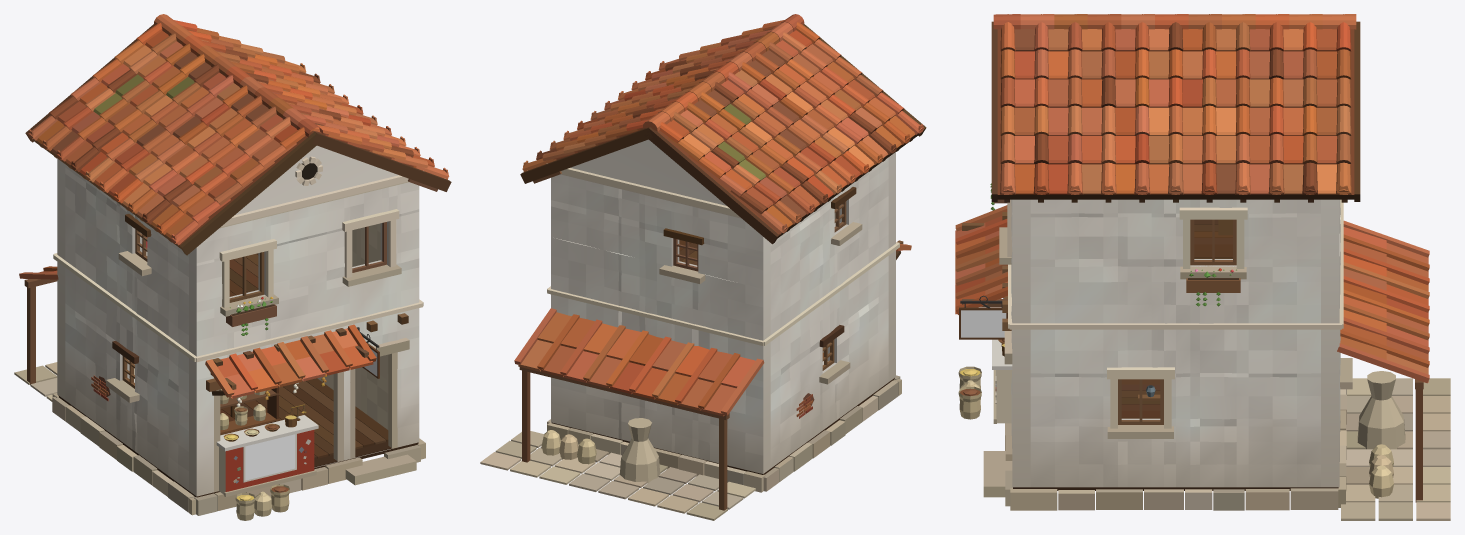
The model's file is artisan_1_2.glb.
3 renders of one model, left to right at view 1: azimuth 30°, elevation 25°; view 2: azimuth 150°, elevation 25°; view 3: azimuth 270°, elevation 25°, orthographic. The views are drawn at different scales.
Visible parts, largest first — view 1: House, Walls, Rooms; view 2: House, Walls; view 3: House, Walls, Rooms.
Boxes of the visible parts, bbox=[...] form: House: bbox=[14, 14, 451, 520]; Walls: bbox=[57, 145, 419, 496]; Rooms: bbox=[134, 223, 388, 459]; House: bbox=[480, 14, 926, 520]; Walls: bbox=[551, 139, 895, 473]; House: bbox=[955, 14, 1450, 520]; Walls: bbox=[1011, 199, 1340, 487]; Rooms: bbox=[1121, 219, 1232, 418].
Bounding box in the file's own units: 4.45 × 5.63 × 5.9.
Materials: 7 (7 with a texture image).
